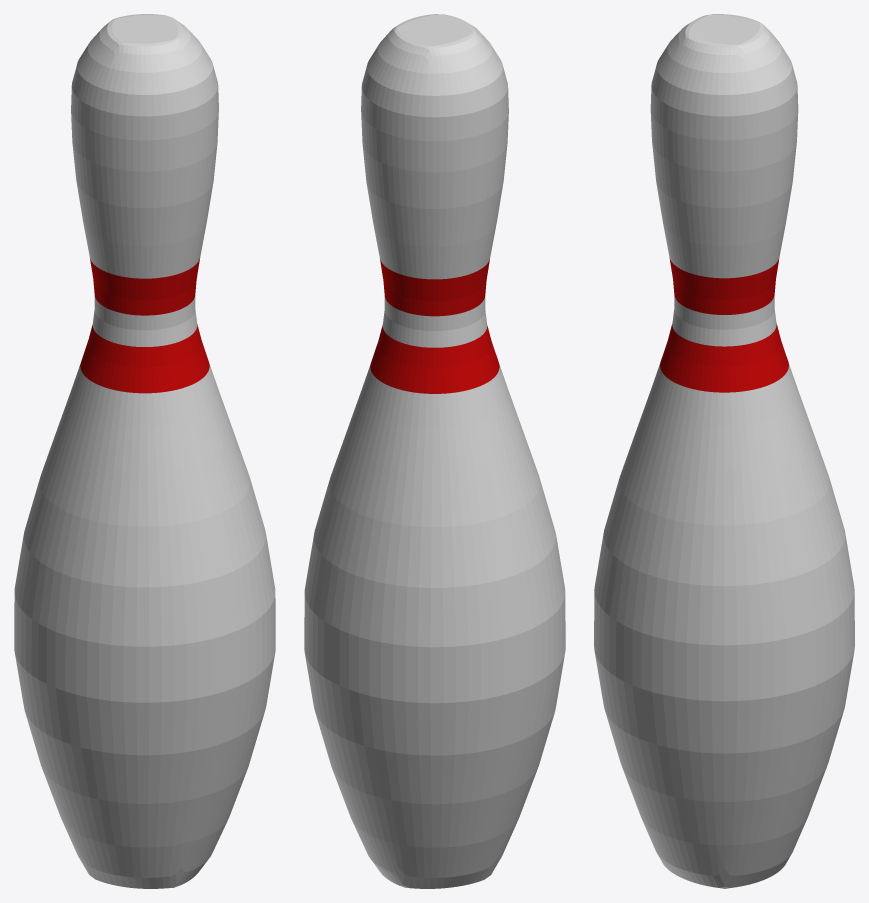
The model's file is Pin.obj.
3 renders of one model, left to right at view 1: azimuth 30°, elevation 25°; view 2: azimuth 150°, elevation 25°; view 3: azimuth 270°, elevation 25°, orthographic.
Parts seen in each view (by area): view 1: Bowling_Pin; view 2: Bowling_Pin; view 3: Bowling_Pin.
Boxes of the visible parts, <box> form: Bowling_Pin: <box>14,14,275,888</box>; Bowling_Pin: <box>304,14,565,888</box>; Bowling_Pin: <box>594,14,854,888</box>.
Bounding box in the file's own units: 0.0973 × 0.3434 × 0.0973.
